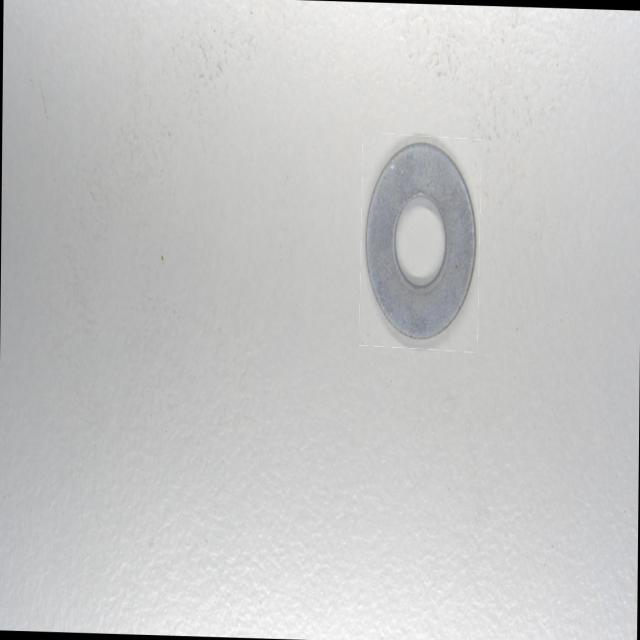washer: (361, 135, 479, 348)
